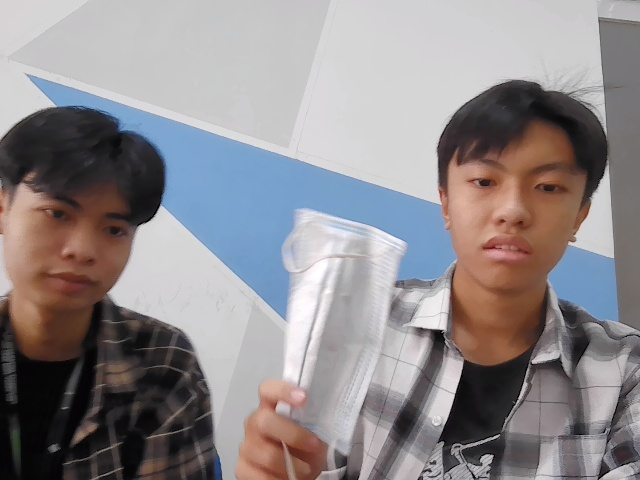human: (433, 76, 617, 291), (6, 99, 167, 319)
mask: (284, 201, 400, 455)
